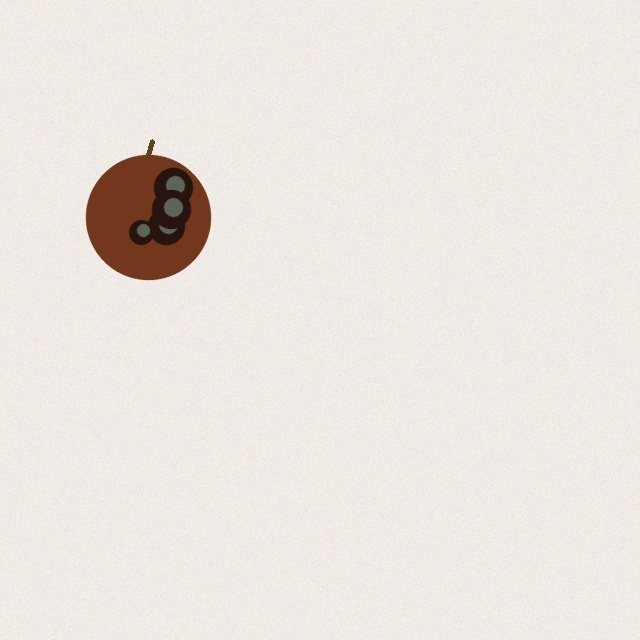Rotten apple: (86, 141, 210, 279)
